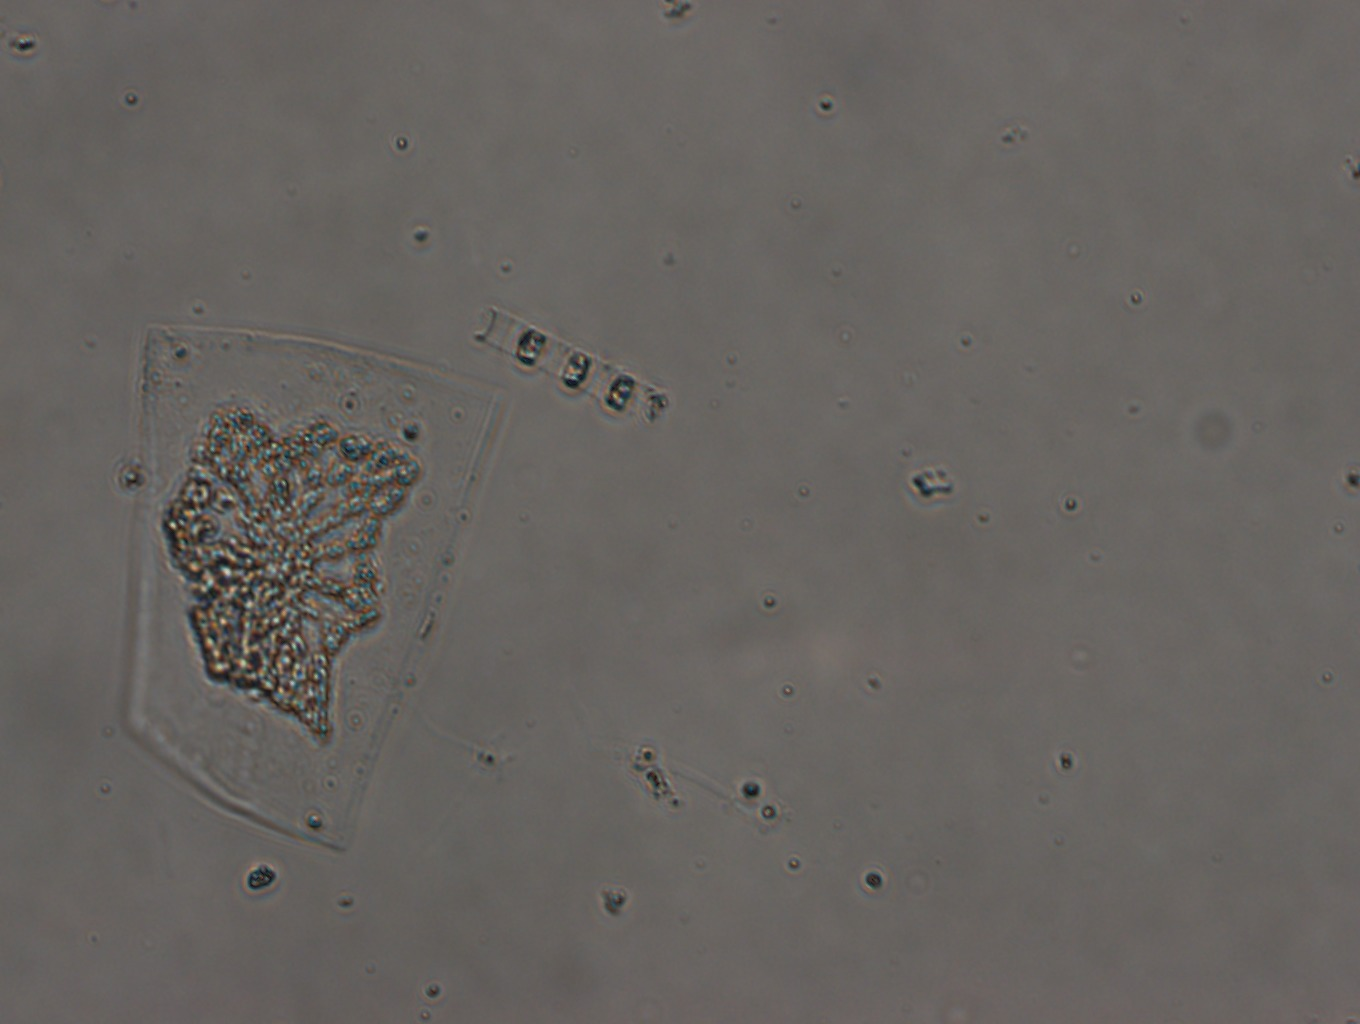helicotheca: (119, 322, 516, 861)
skeletonema: (474, 305, 672, 433)
